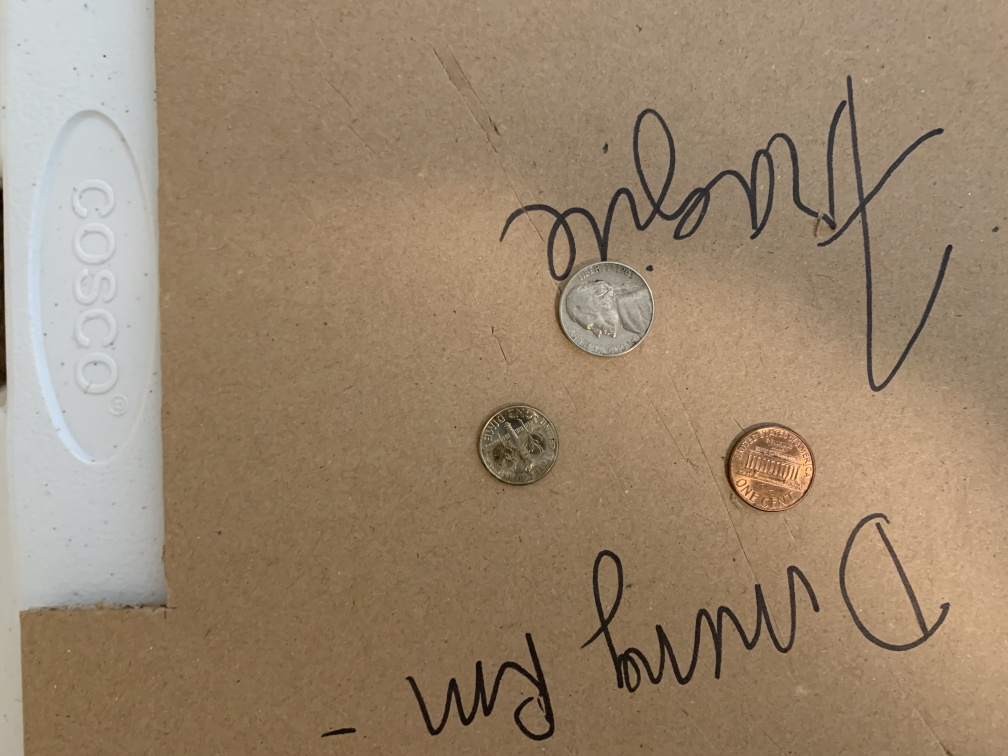dime: (472, 401, 563, 492)
nickel: (554, 254, 659, 361)
penny: (723, 424, 819, 514)
